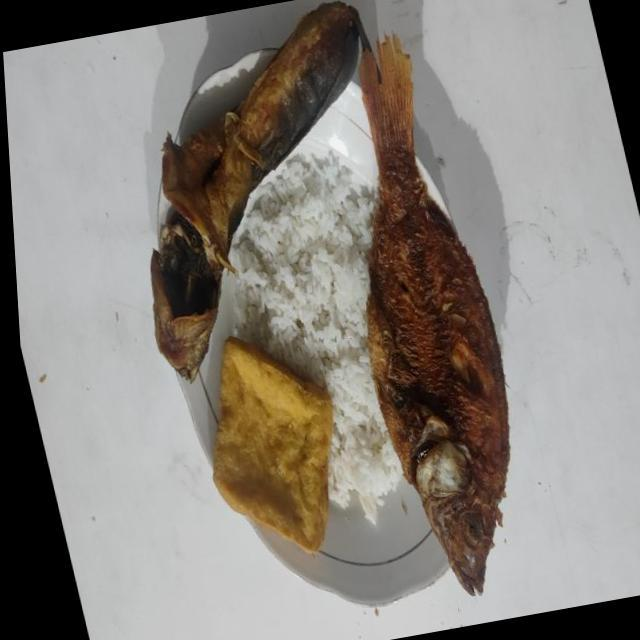ikan_mujair: (358, 33, 509, 594)
nasi_putih: (230, 148, 402, 522)
tahu_goreng: (213, 336, 332, 552)
